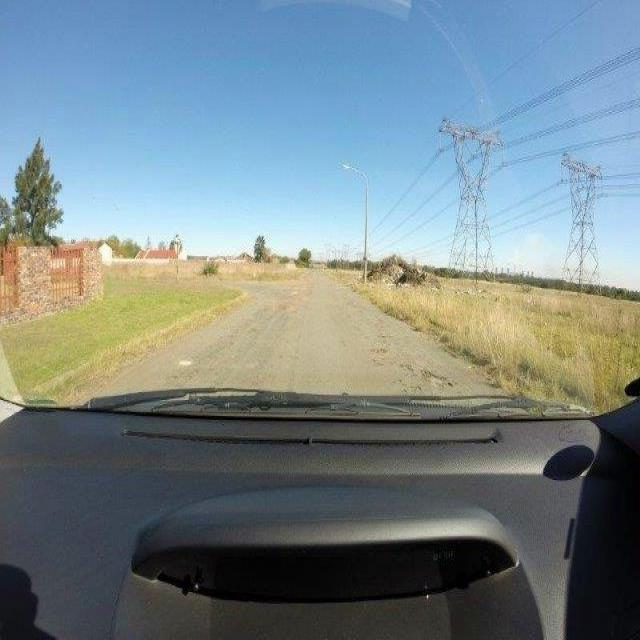lubang: (397, 360, 458, 393), (367, 341, 391, 361)
